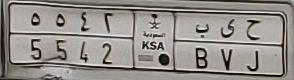2: (101, 12, 115, 66)
4: (79, 11, 90, 63)
5: (55, 13, 68, 61), (30, 11, 42, 60)
B: (195, 23, 209, 69)
J: (244, 18, 263, 72)
V: (220, 18, 236, 73)
